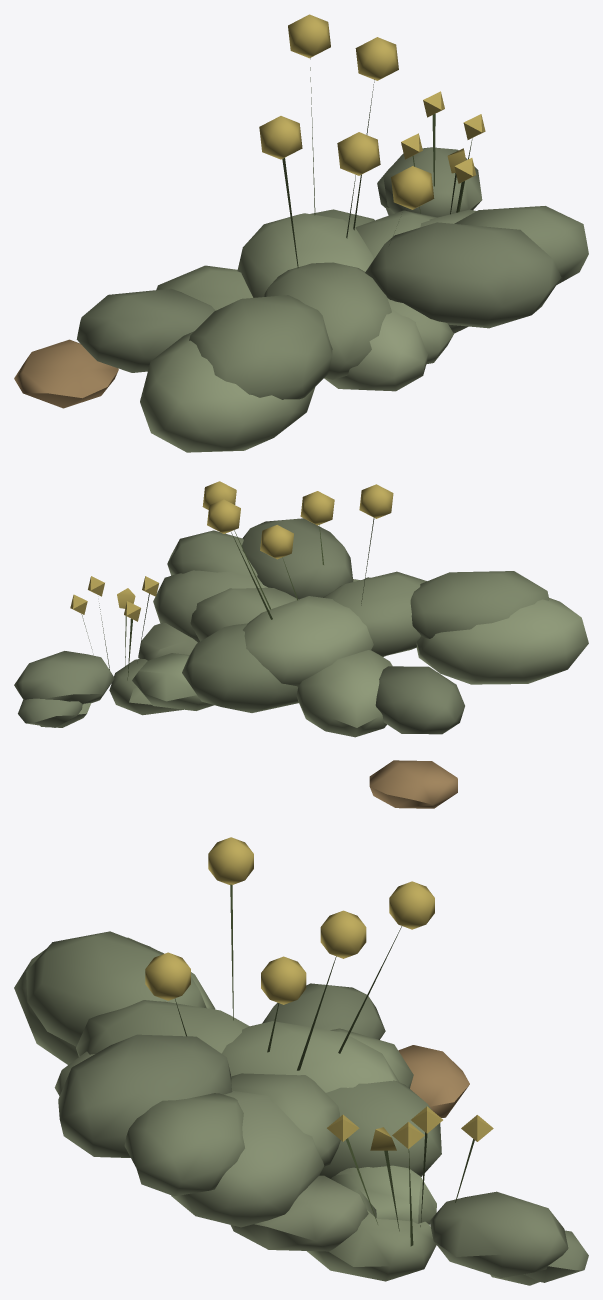
Rendered from desert_scrub_a_lod1.glb.
3 views of the same model, one above another, from view 1: azimuth 30°, elevation 25°; view 2: azimuth 150°, elevation 25°; view 3: azimuth 270°, elevation 25° (orthographic). The views are drawn at different scales.
Parts seen in each view (by area): view 1: Surface.001; view 2: Surface.001; view 3: Surface.001.
Part boxes in pixels (bbox=[...]): Surface.001: bbox=[14, 14, 588, 452]; Surface.001: bbox=[14, 481, 588, 808]; Surface.001: bbox=[14, 837, 588, 1285].
Bounding box in the file's own units: 4.39 × 2.66 × 3.87.
